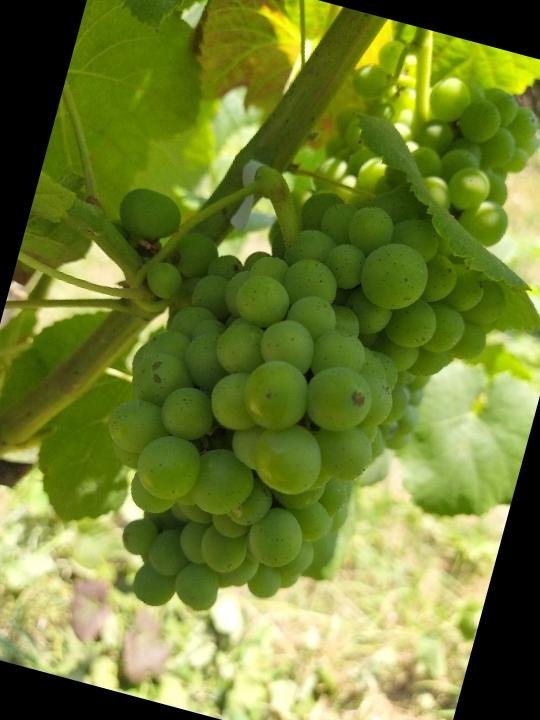grape: (20, 111, 531, 678)
